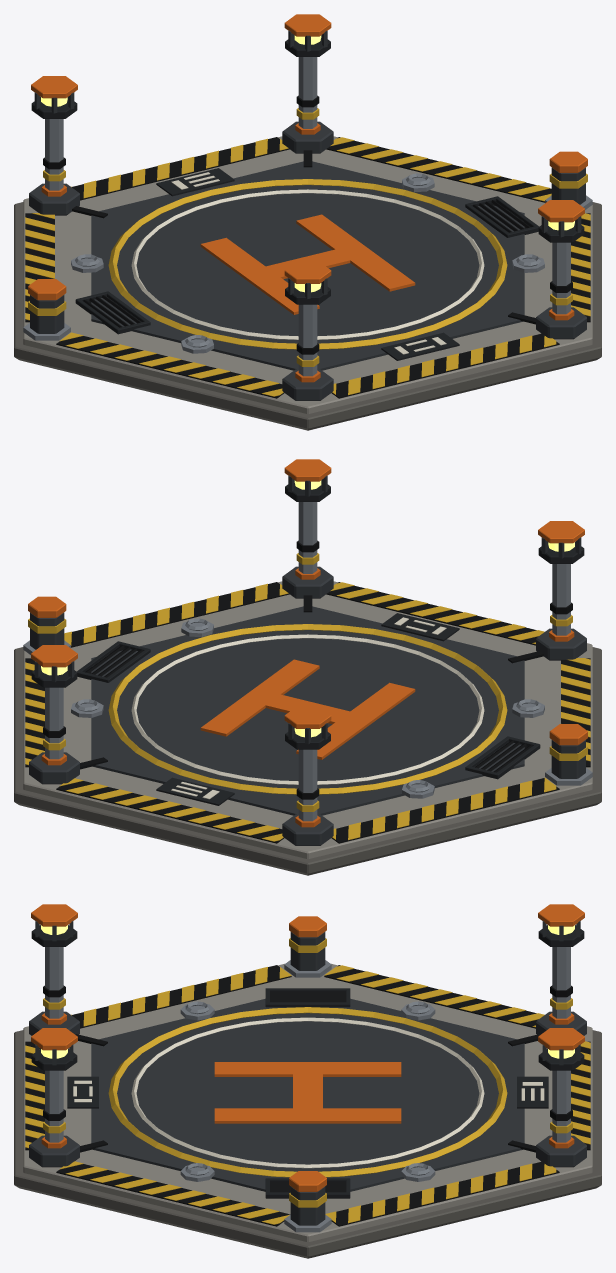
Rendered from extraction_pad.fbx.
The picture shows the model from 3 angles, top to bottom: view 1: azimuth 30°, elevation 25°; view 2: azimuth 150°, elevation 25°; view 3: azimuth 270°, elevation 25°; orthographic projection.
Visible parts, largest first — view 1: Body; view 2: Body; view 3: Body.
Part boxes in pixels (x1,y1,x2,y2): Body: (14,14,601,430); Body: (14,459,601,875); Body: (14,904,601,1258).
Bounding box in the file's own units: 15.97 × 3.73 × 13.86.
Materials: 5 (1 with a texture image).
